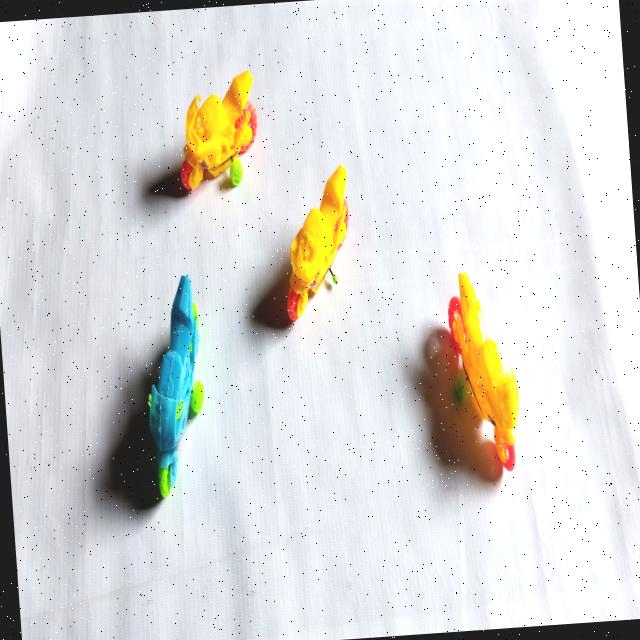bikes: (448, 272, 519, 470), (149, 275, 204, 496), (287, 164, 347, 320), (180, 70, 257, 189)
